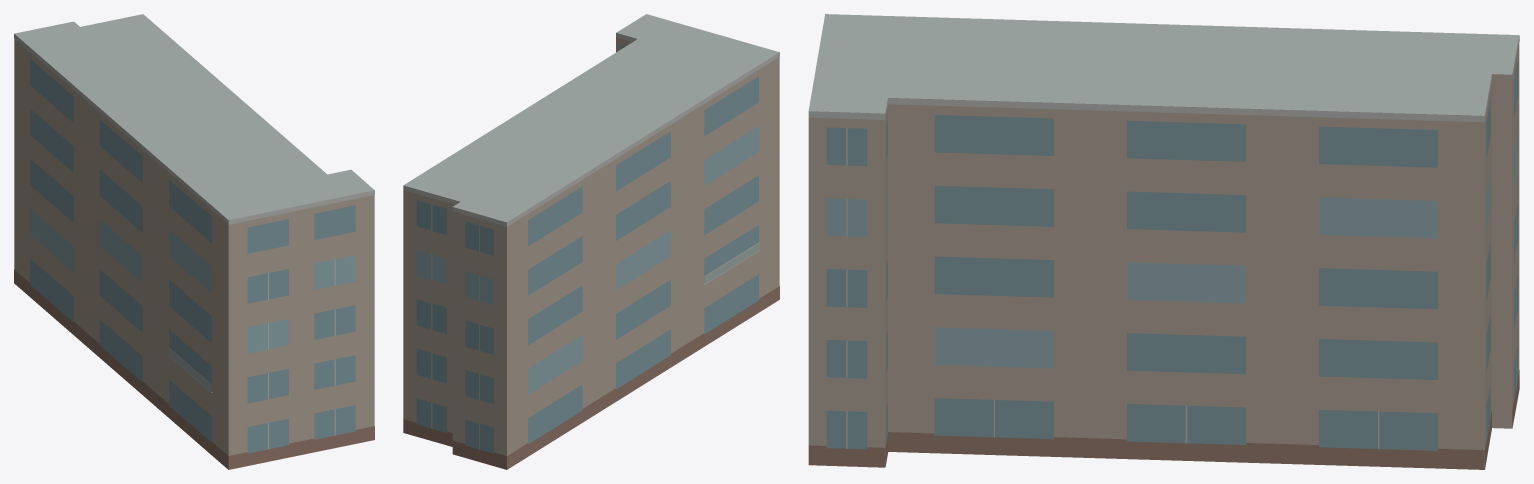
File: survey-upis-32766279.glb
3 renders of one model, left to right at view 1: azimuth 30°, elevation 25°; view 2: azimuth 150°, elevation 25°; view 3: azimuth 270°, elevation 25°, orthographic. The views are drawn at different scales.
Visible parts, largest first — view 1: survey-upis-32766279.tmp; view 2: survey-upis-32766279.tmp; view 3: survey-upis-32766279.tmp.
Part boxes in pixels (x1,y1,x2,y2): survey-upis-32766279.tmp: (14,14,374,469); survey-upis-32766279.tmp: (403,14,779,469); survey-upis-32766279.tmp: (808,14,1519,469).
Bounding box in the file's own units: 8.28 × 13.4 × 24.4.
